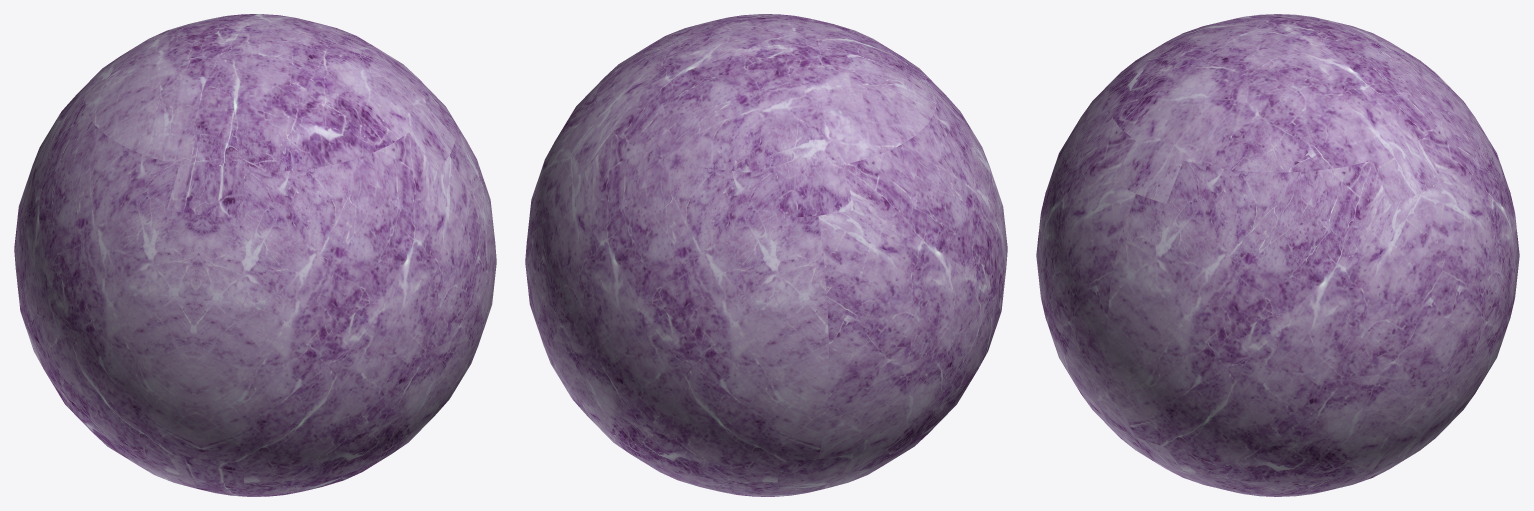
Rendered from marble-03.glb.
3 views of the same model, side by side, from view 1: azimuth 30°, elevation 25°; view 2: azimuth 150°, elevation 25°; view 3: azimuth 270°, elevation 25° (orthographic).
Visible parts, largest first — view 1: Icosphere; view 2: Icosphere; view 3: Icosphere.
Boxes of the visible parts, x1=… form: Icosphere: x1=14, y1=14, x2=496, y2=496; Icosphere: x1=525, y1=14, x2=1007, y2=496; Icosphere: x1=1036, y1=14, x2=1519, y2=496.
Size of the model in its own units: 1 by 1 by 1.
1 material, 1 textured.
